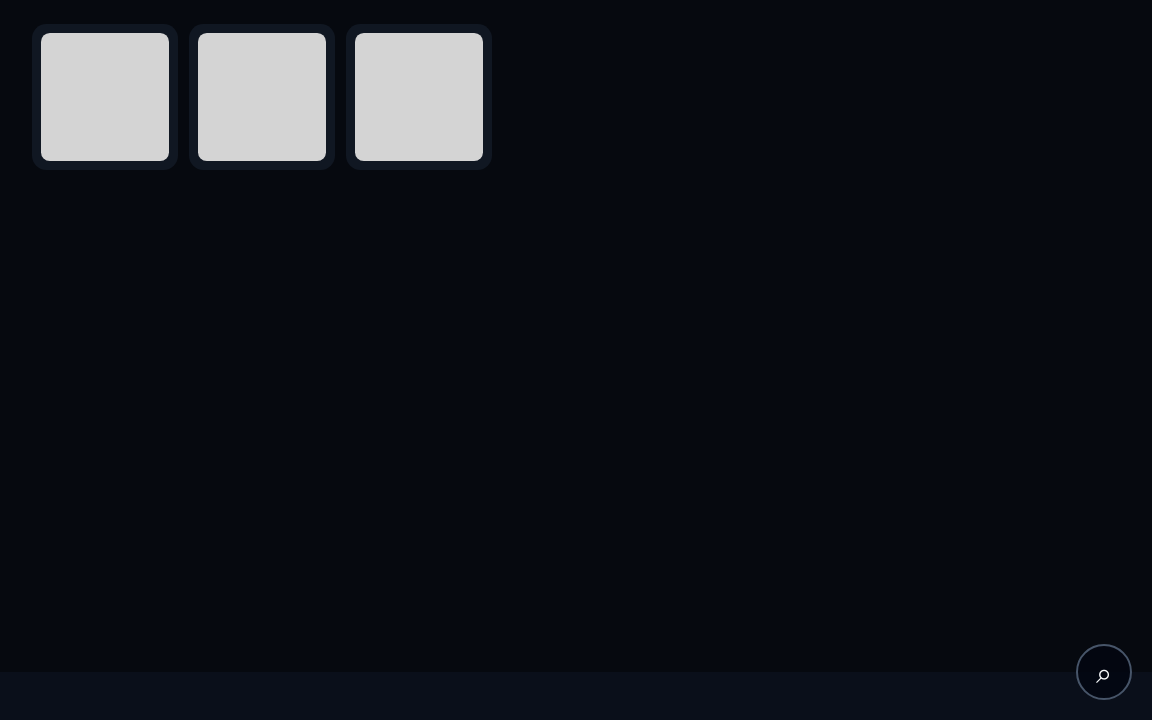
Test: /tv Personal Gallery › the counter shows the server total, not the loaded count, and it stays stable across pages
Click the button "a.jpg".
click(105, 97)  # box x1=32 y1=24 x2=178 y2=170
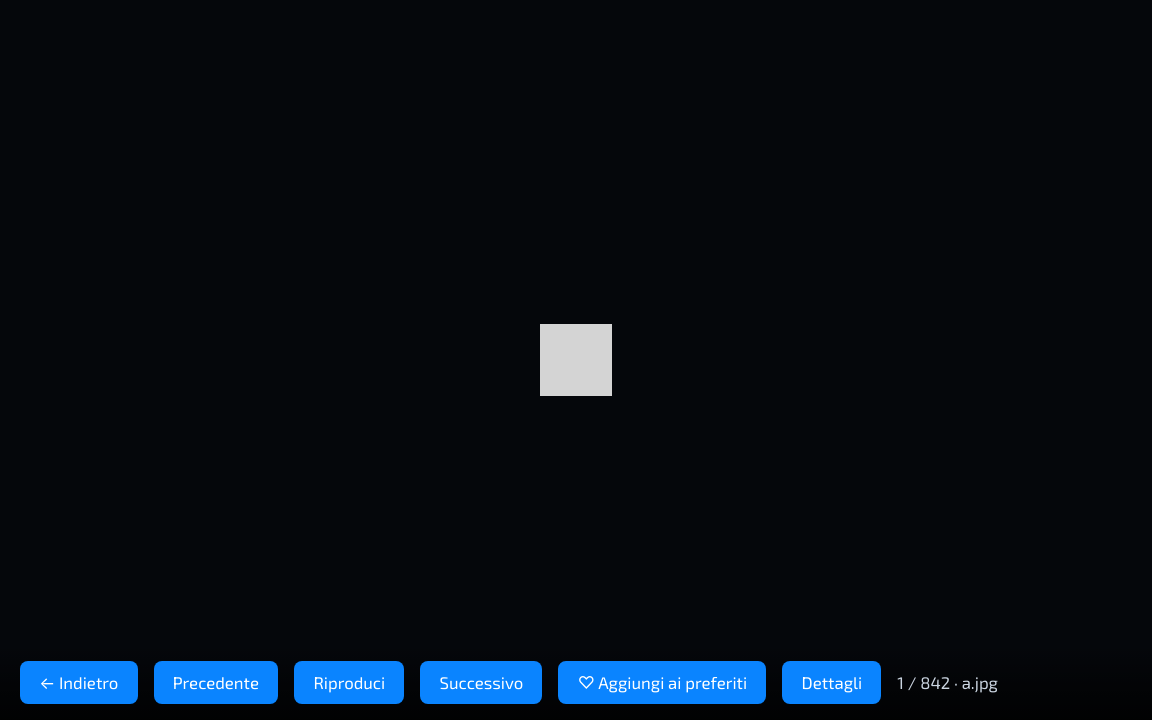
Now the text with test id "tv-personal-viewer-counter" shows "1 / 842", box x1=897 y1=672 x2=998 y2=692
Press ArrowRight in the dialog with test id "tv-personal-viewer"
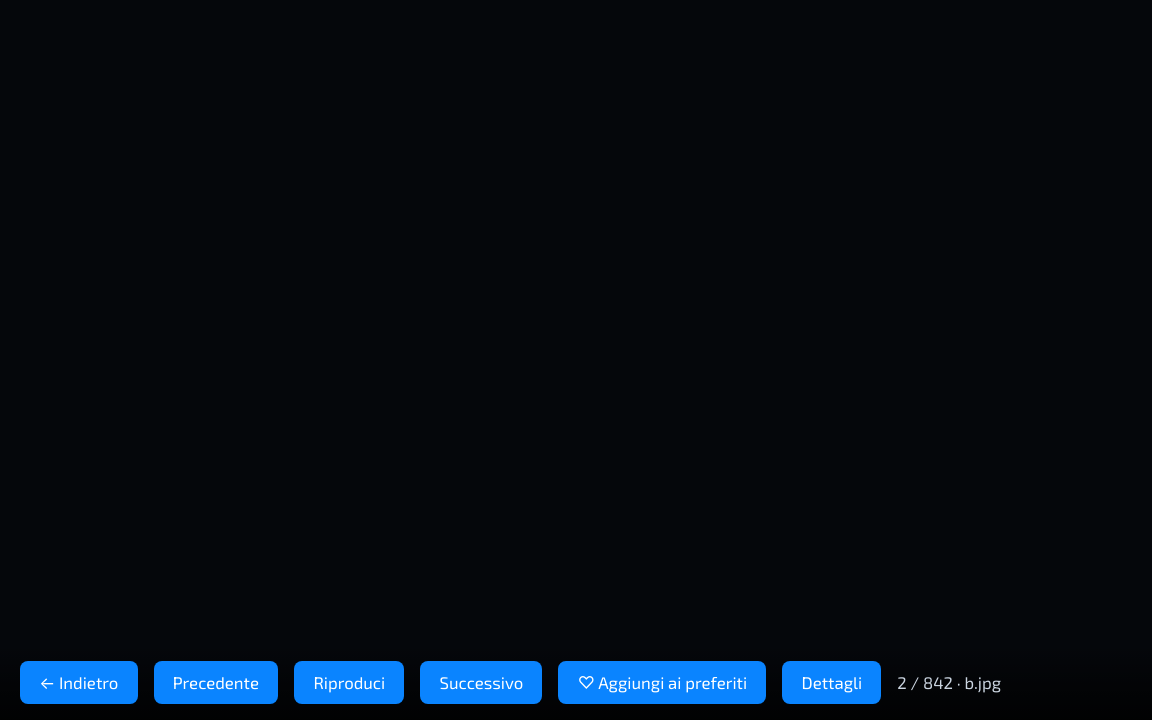
Press ArrowRight in the dialog with test id "tv-personal-viewer"
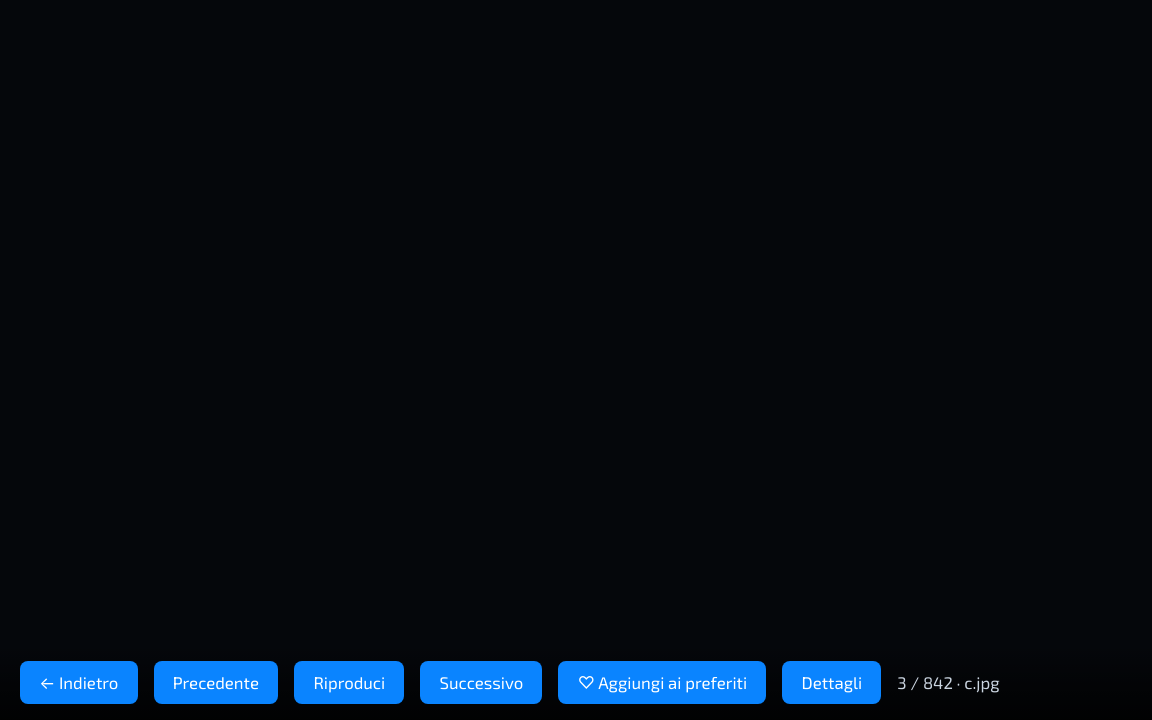
Now the text with test id "tv-personal-viewer-counter" shows "3 / 842", box x1=897 y1=672 x2=1000 y2=692
Press ArrowRight in the dialog with test id "tv-personal-viewer"
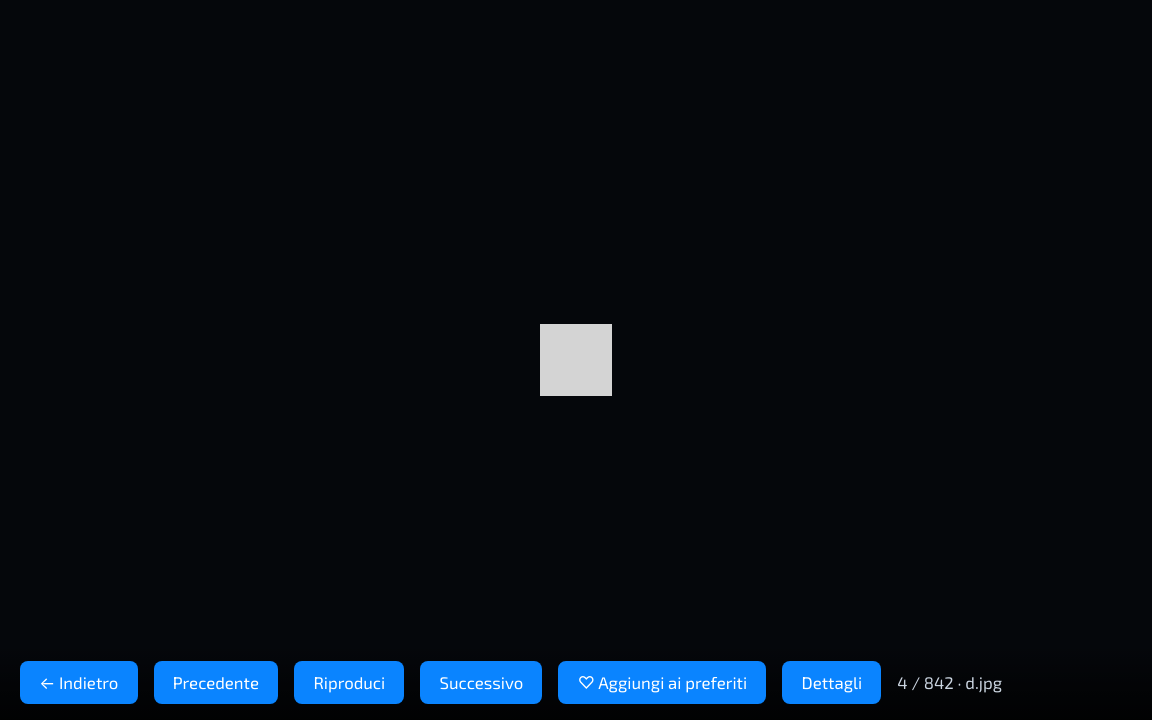
Now the text with test id "tv-personal-viewer-counter" shows "4 / 842", box x1=897 y1=672 x2=1002 y2=692
